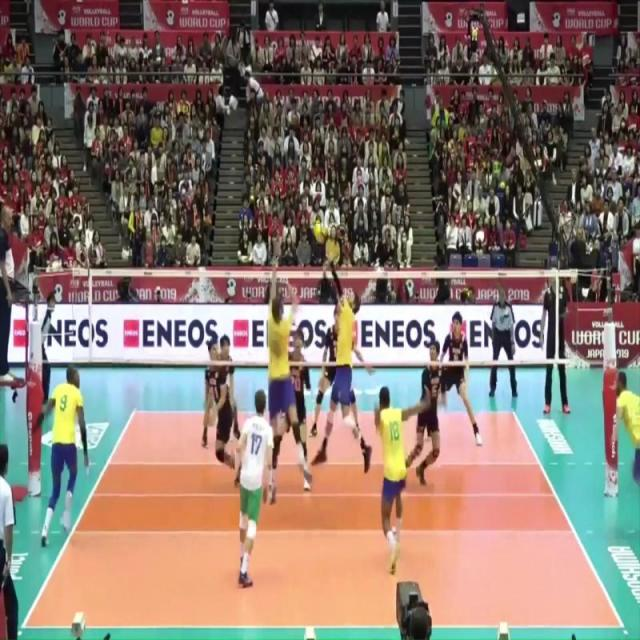volleyball: (313, 219, 327, 245)
